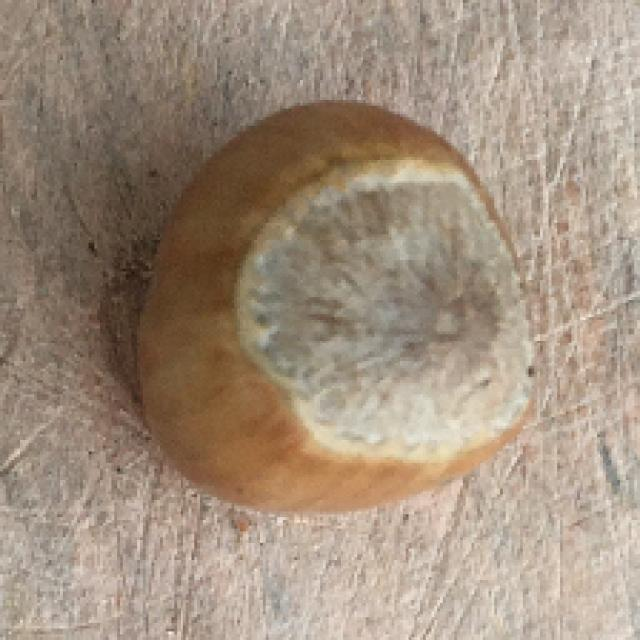qualityHazelnut: (134, 104, 537, 517)
